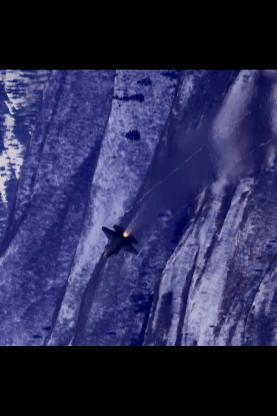F22: (98, 226, 136, 260)
